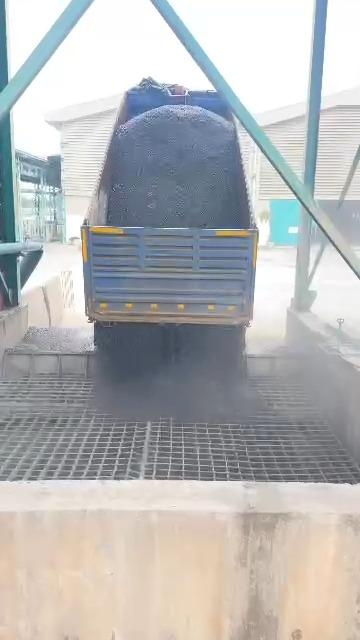gravel: (109, 103, 250, 228), (95, 325, 260, 421), (14, 325, 93, 353)
